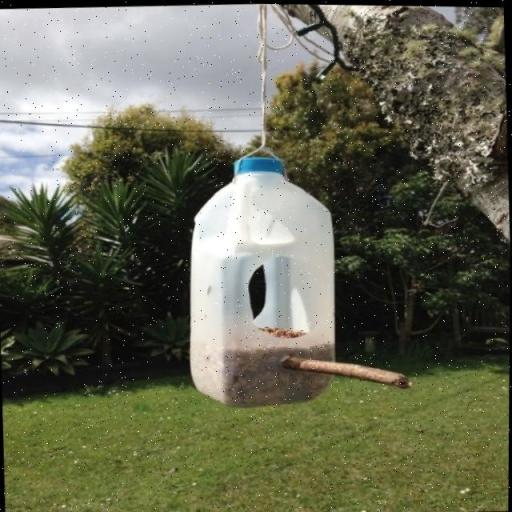plastic: (180, 148, 346, 408)
